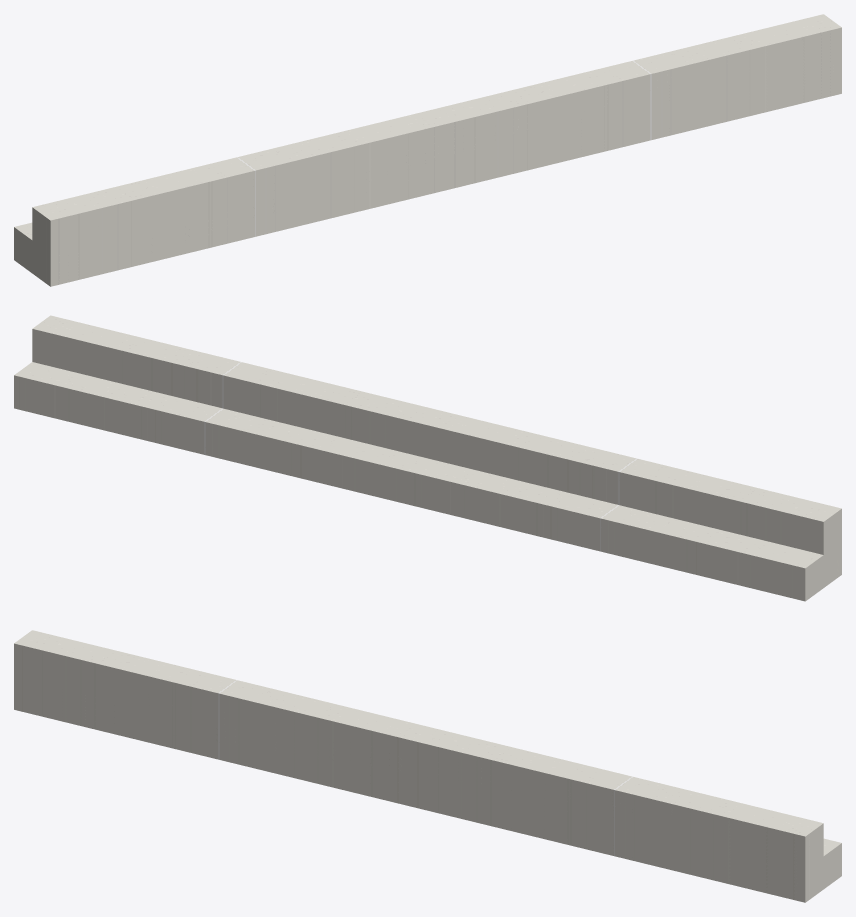
File: PhaoChi_Thang.glb
The picture shows the model from 3 angles, top to bottom: view 1: azimuth 30°, elevation 25°; view 2: azimuth 150°, elevation 25°; view 3: azimuth 330°, elevation 25°; orthographic projection.
Parts seen in each view (by area): view 1: geometry_0; view 2: geometry_0; view 3: geometry_0.
Part boxes in pixels (x1=…): geometry_0: x1=14, y1=14, x2=841, y2=286; geometry_0: x1=14, y1=315, x2=841, y2=601; geometry_0: x1=14, y1=630, x2=841, y2=902.
Size of the model in its own units: 1 by 0.08 by 0.08.
1 material, 1 textured.
